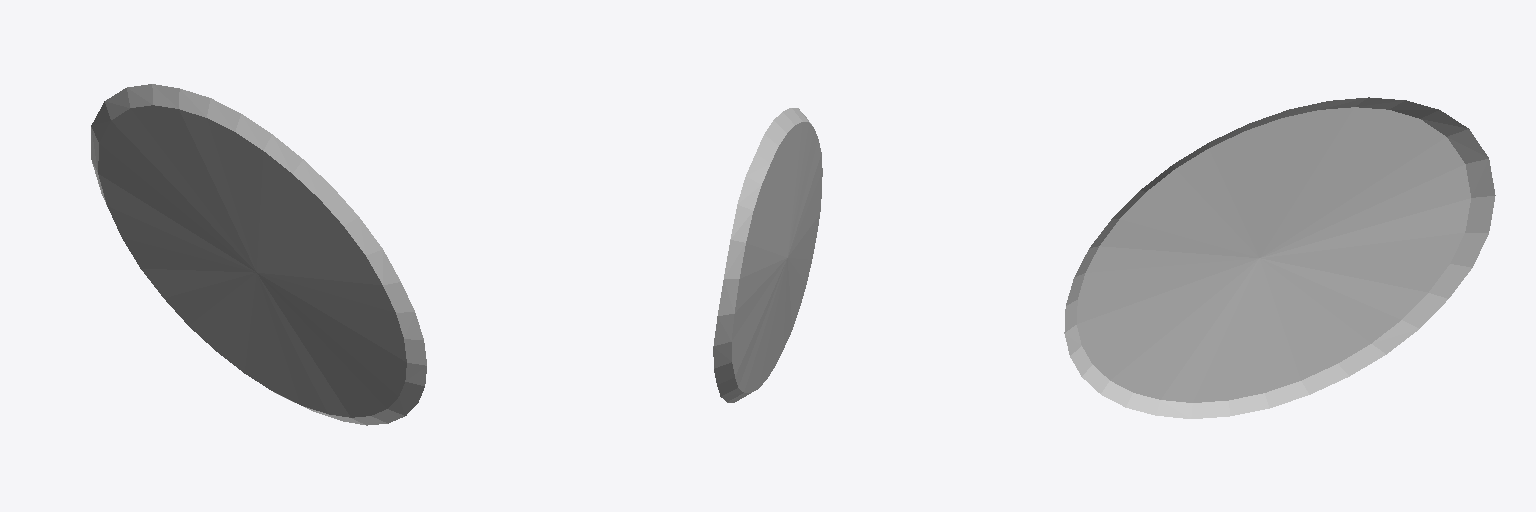
The model's file is sworddeco3_001.obj.
3 views of the same model, side by side, from view 1: azimuth 30°, elevation 25°; view 2: azimuth 150°, elevation 25°; view 3: azimuth 270°, elevation 25° (orthographic).
Visible parts, largest first — view 1: sworddeco3.001; view 2: sworddeco3.001; view 3: sworddeco3.001.
Boxes of the visible parts, box(x1,y1,x2,y2) form: sworddeco3.001: box(91, 84, 426, 425); sworddeco3.001: box(713, 108, 822, 402); sworddeco3.001: box(1064, 97, 1495, 418).
Size of the model in its own units: 1.64 by 3.55 by 4.78.